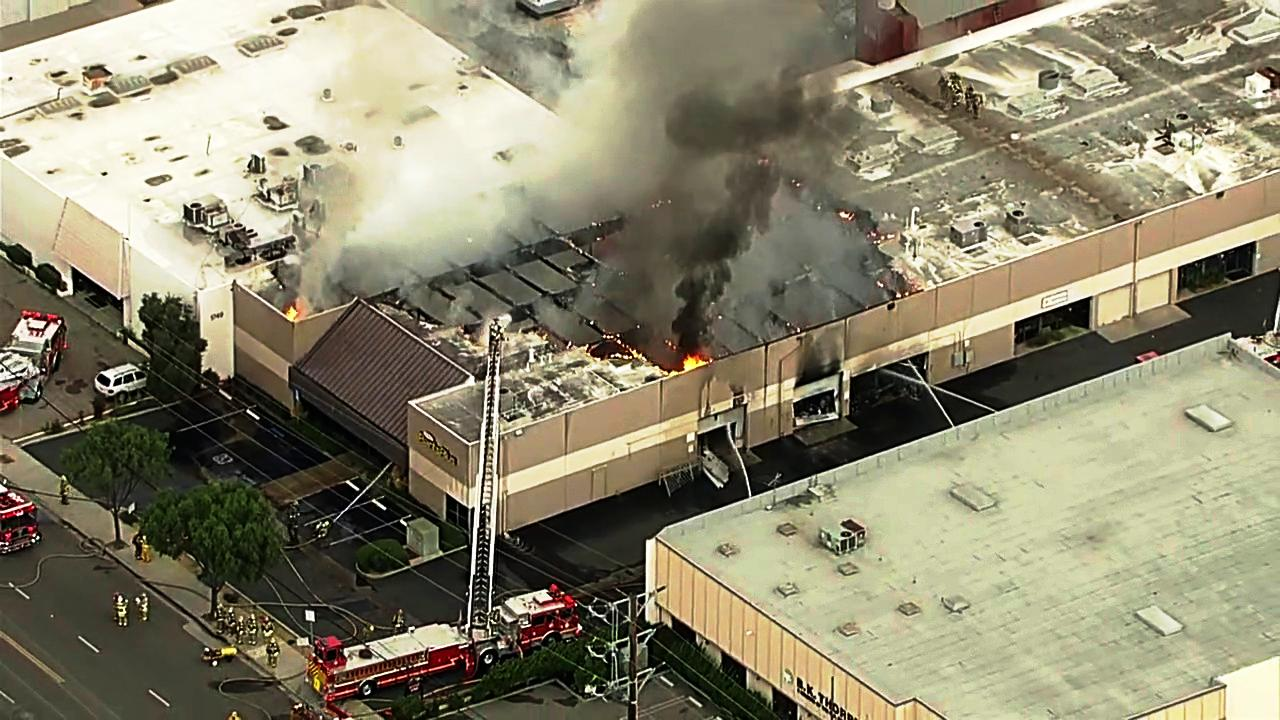smoke: (664, 42, 798, 355)
